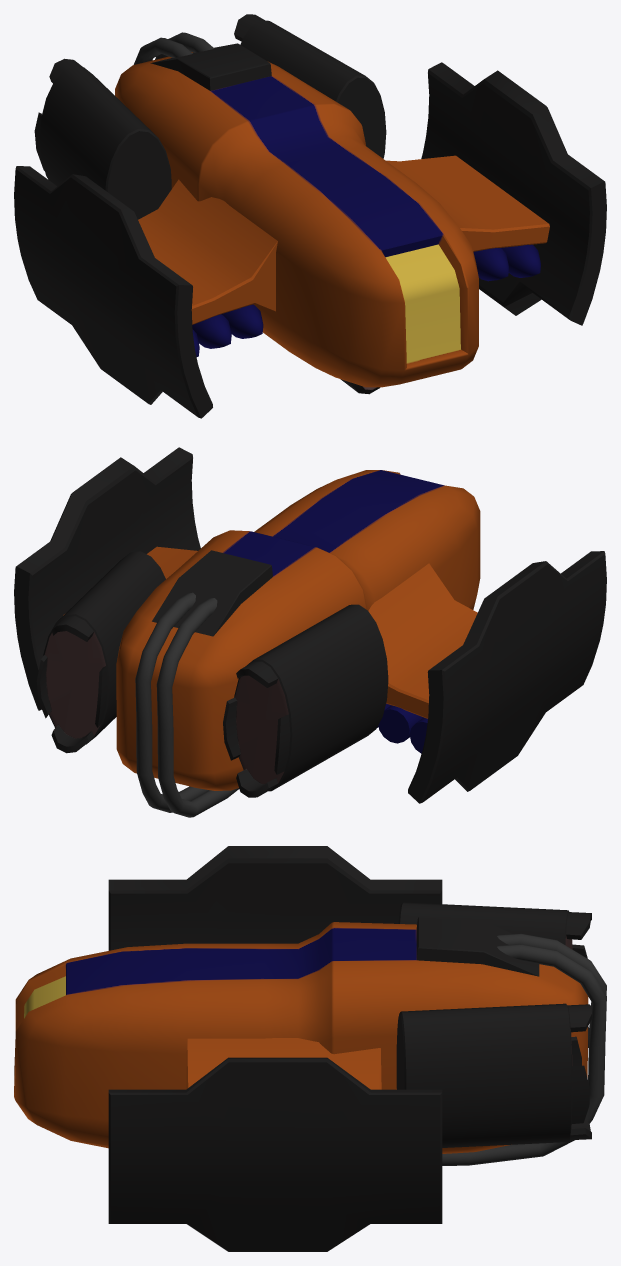
The model's file is PennyFbx.fbx.
3 views of the same model, one above another, from view 1: azimuth 30°, elevation 25°; view 2: azimuth 150°, elevation 25°; view 3: azimuth 270°, elevation 25° (orthographic). The views are drawn at different scales.
Visible parts, largest first — view 1: polySurface67; view 2: polySurface67; view 3: polySurface67.
Boxes of the visible parts, <box> form: polySurface67: <box>14,14,606,418</box>; polySurface67: <box>14,447,606,817</box>; polySurface67: <box>14,846,606,1251</box>.
Size of the model in its own units: 4.05 by 2.1 by 4.69.
Materials: 1 (1 with a texture image).
